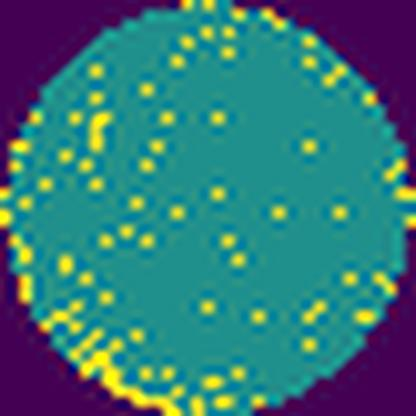Edge-Loc: (76, 336, 190, 415)
